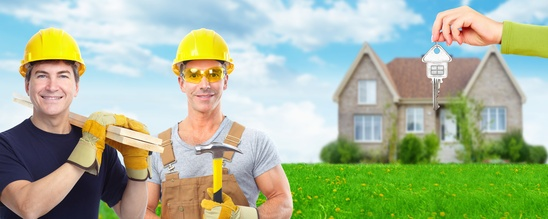yellow: (19, 28, 83, 114), (174, 26, 231, 112)
